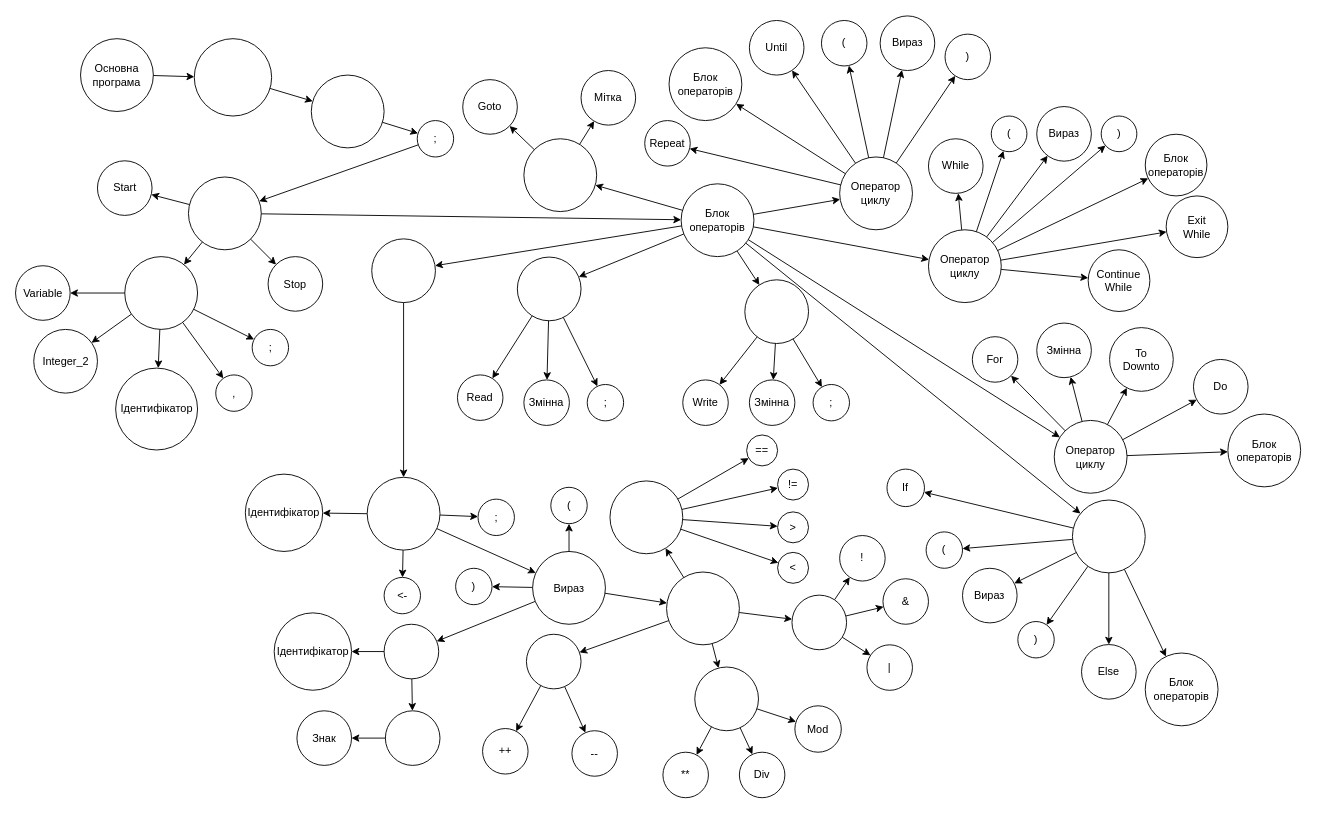
Some shapes in this 1318 by 814 pixel diagram are drawn without their labels. The shapes that lost their labels are listed below. From the top down, each one's centre as x and y in pixels, then its label:
(232,77): #Program
(347,111): Ім'я програми
(560,175): Оператор переходу
(224,213): Блок коду
(403,270): Простий оператор
(548,288): Оператор вводу
(161,292): Блок змінних
(776,311): Оператор виводу
(403,513): Присвоєння
(646,517): Операції порівняння
(1108,536): Оператор умови
(702,608): Операції
(819,622): Логічна операція
(411,651): Операнд
(553,661): Адитивна операція
(726,698): Мультиплі кативна операція
(412,737): Константа
